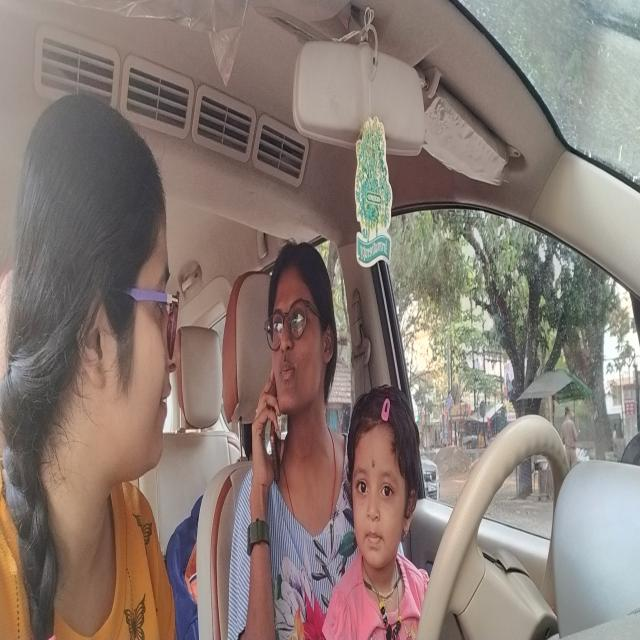child: (348, 379, 424, 571)
mobile: (269, 374, 282, 484)
person: (15, 90, 179, 500), (265, 232, 338, 430)
